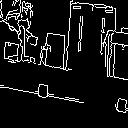cube: (29, 81, 53, 103), (110, 93, 128, 116)
